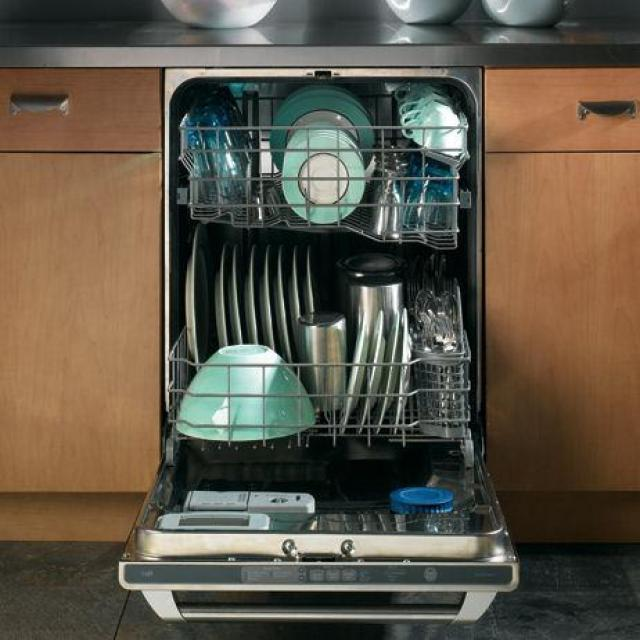dishwasher: (118, 68, 519, 622)
